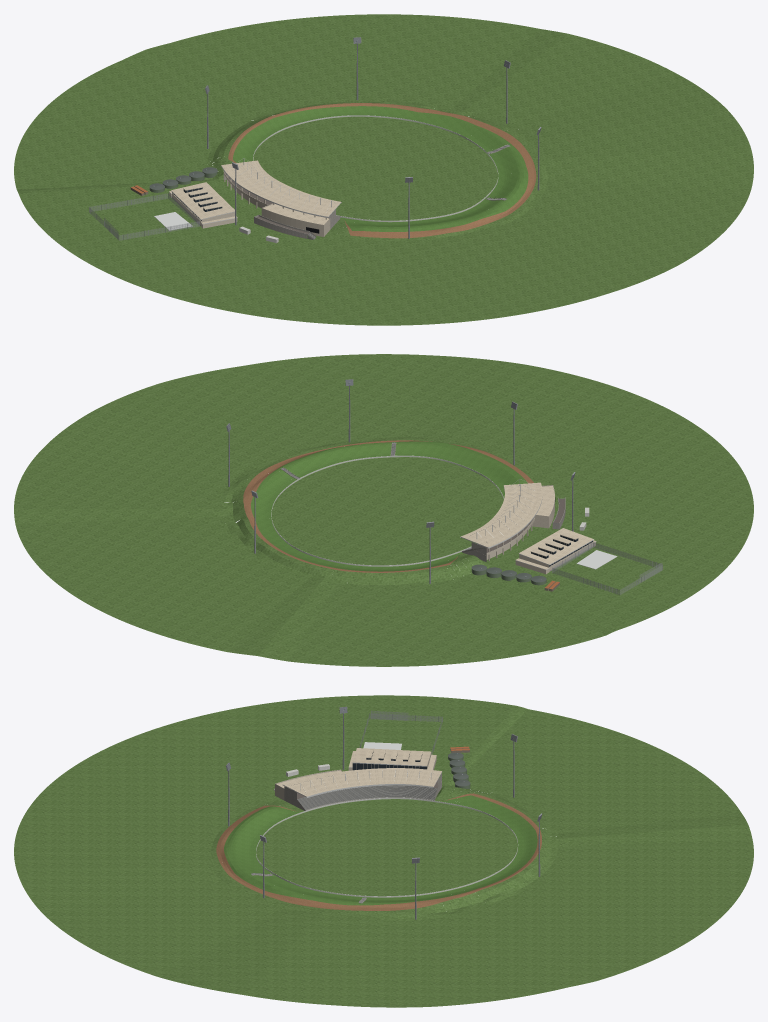
The model's file is blacktown.glb.
3 views of the same model, one above another, from view 1: azimuth 30°, elevation 25°; view 2: azimuth 150°, elevation 25°; view 3: azimuth 270°, elevation 25° (orthographic).
Parts seen in each view (by area): view 1: concourse_far, concourse, detail, roofs, towers, fence; view 2: concourse_far, concourse, detail, roofs, fence, towers; view 3: concourse_far, concourse, detail, roofs, stands, fence, towers.
Part boxes in pixels (x1=…): concourse_far: x1=14, y1=14, x2=753, y2=325; concourse: x1=192, y1=92, x2=559, y2=248; detail: x1=89, y1=144, x2=510, y2=243; roofs: x1=221, y1=160, x2=341, y2=217; towers: x1=205, y1=37, x2=541, y2=238; fence: x1=253, y1=115, x2=498, y2=222; concourse_far: x1=14, y1=354, x2=753, y2=666; concourse: x1=210, y1=432, x2=566, y2=594; detail: x1=280, y1=442, x2=662, y2=594; roofs: x1=460, y1=482, x2=542, y2=548; fence: x1=271, y1=455, x2=503, y2=566; towers: x1=226, y1=379, x2=575, y2=583; concourse_far: x1=14, y1=695, x2=753, y2=1007; concourse: x1=194, y1=776, x2=579, y2=923; detail: x1=251, y1=710, x2=470, y2=903; roofs: x1=282, y1=768, x2=442, y2=797; stands: x1=284, y1=773, x2=441, y2=810; fence: x1=256, y1=797, x2=518, y2=897; towers: x1=226, y1=706, x2=542, y2=919.
Size of the model in its own units: 480 by 45.4 by 480.
Materials: 26 (26 with a texture image).
